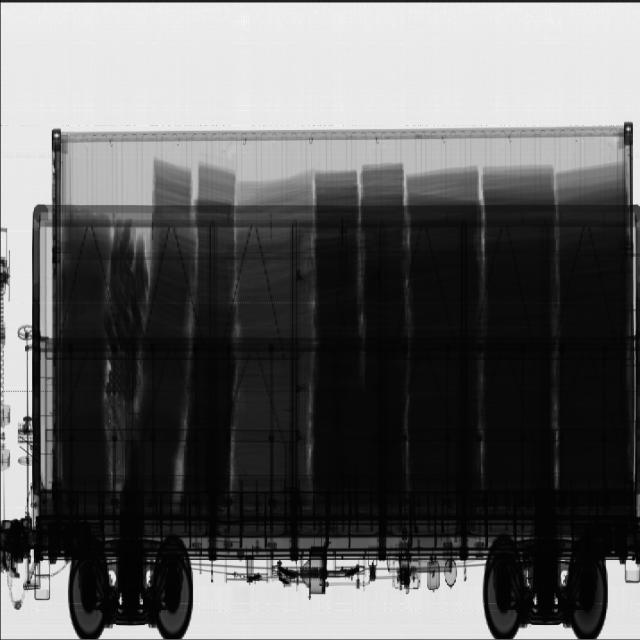fabrics: (58, 160, 630, 508)
